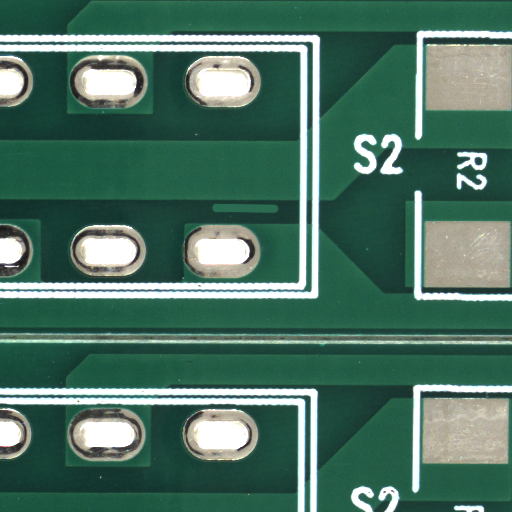Spurious_copper: (245, 207, 315, 222)
